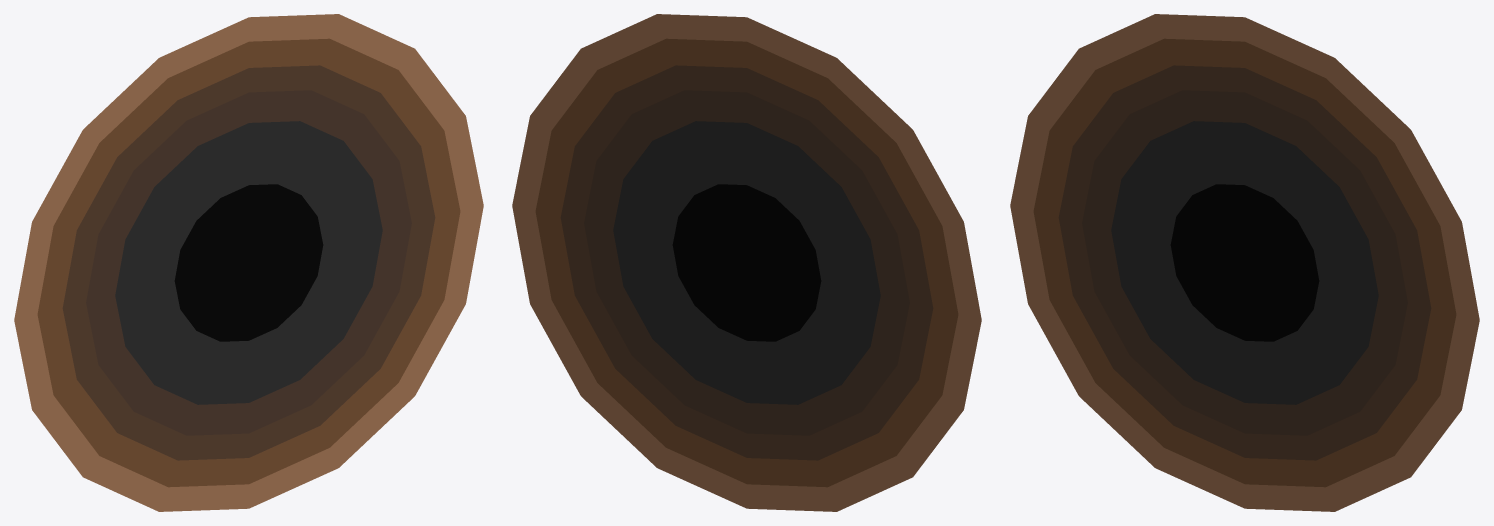
File: exit.fbx
3 views of the same model, side by side, from view 1: azimuth 30°, elevation 25°; view 2: azimuth 150°, elevation 25°; view 3: azimuth 330°, elevation 25° (orthographic).
Visible parts, largest first — view 1: Circle; view 2: Circle; view 3: Circle.
Boxes of the visible parts, bbox=[...] form: Circle: bbox=[14, 14, 483, 511]; Circle: bbox=[512, 14, 981, 511]; Circle: bbox=[1010, 14, 1479, 511].
Bounding box in the file's own units: 200 × 200 × 8.74e-06.
